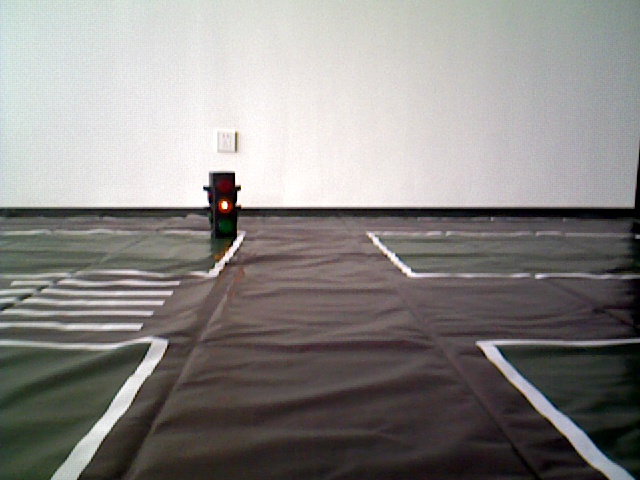yellow: (207, 170, 240, 243)
